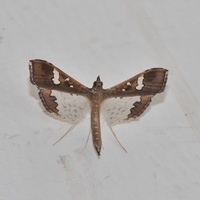insect: (29, 59, 167, 155)
